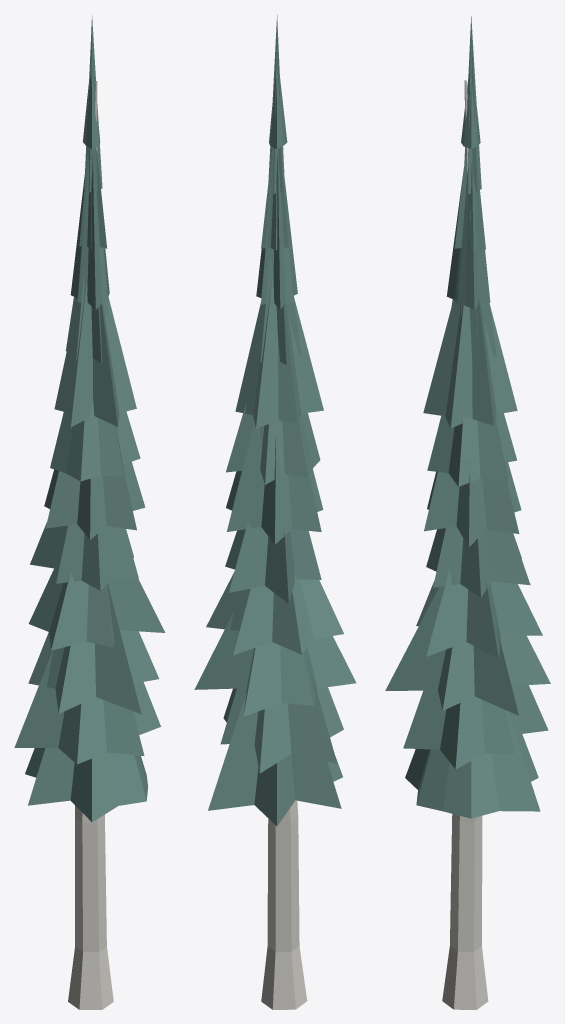
File: dense-temperate-forest-flora-silver-fir-old-78309ac0__28352.glb
The picture shows the model from 3 angles, left to right: view 1: azimuth 30°, elevation 25°; view 2: azimuth 150°, elevation 25°; view 3: azimuth 270°, elevation 25°; orthographic projection.
Parts seen in each view (by area): view 1: silver-fir-old; view 2: silver-fir-old; view 3: silver-fir-old.
Part boxes in pixels (box(x1,y1,x2,y2)): silver-fir-old: box(14, 15, 165, 1009); silver-fir-old: box(194, 15, 356, 1009); silver-fir-old: box(385, 16, 550, 1009).
Size of the model in its own units: 3.41 by 24.63 by 3.74.
